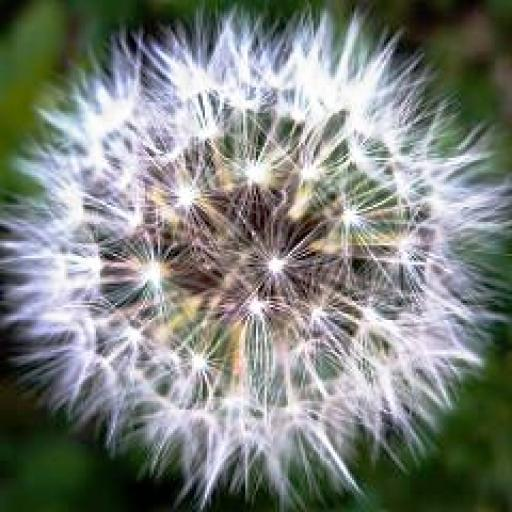dandelion: (3, 0, 508, 512)
